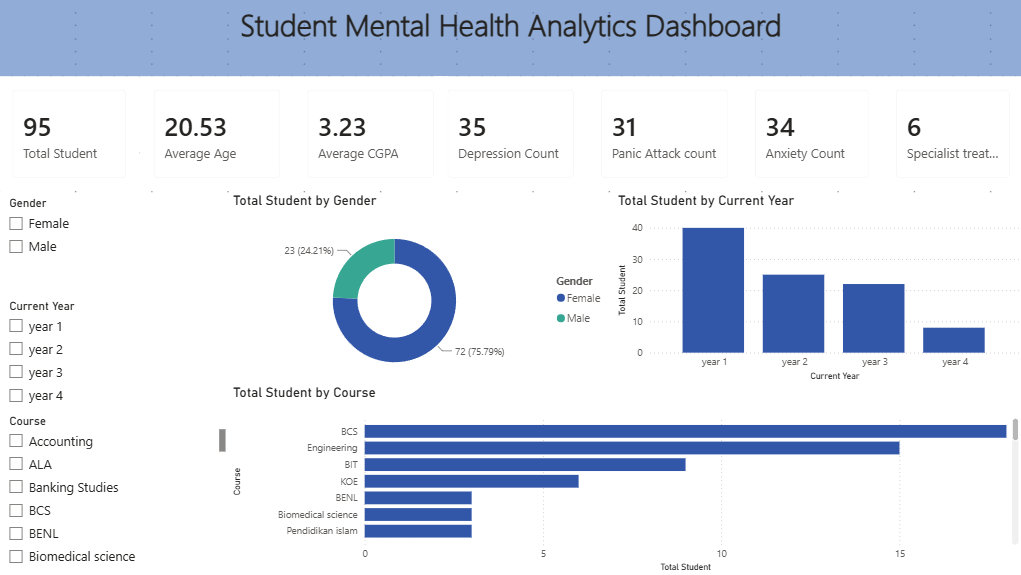

Layout of this report page (visuals, bound fields, positions):
{"tool":"powerbi","page":{"name":"Executive Overview","canvas":[1280,720],"ordinal":0},"visuals":[{"type":"donutChart","fields":{"Category":["Student_health.Gender"],"Y":["Student_health.Total Student"]},"box":[288,240,480,240],"z":0},{"type":"clusteredBarChart","fields":{"Y":["Student_health.Total Student"],"Category":["Student_health.Course"]},"box":[288,480,992,240],"z":1},{"type":"columnChart","fields":{"Category":["Student_health.Current Year"],"Y":["Student_health.Total Student"]},"box":[768,240,512,240],"z":2},{"type":"textbox","box":[0,0,1280,96],"z":3},{"type":"cardVisual","fields":{"Data":["Student_health.Total Student"]},"box":[0,96,176,144],"z":4},{"type":"cardVisual","fields":{"Data":["Student_health.Average Age"]},"box":[176,96,192,144],"z":5},{"type":"cardVisual","fields":{"Data":["Student_health.Panic Attack count"]},"box":[736,96,192,144],"z":6},{"type":"cardVisual","fields":{"Data":["Student_health.Depression Count"]},"box":[544,96,192,144],"z":7},{"type":"cardVisual","fields":{"Data":["Student_health.Average CGPA"]},"box":[368,96,192,144],"z":8},{"type":"cardVisual","fields":{"Data":["Student_health.Anxiety Count"]},"box":[928,96,176,144],"z":9},{"type":"slicer","fields":{"Values":["Student_health.Gender"]},"box":[0,240,288,144],"z":10},{"type":"slicer","fields":{"Values":["Student_health.Course"]},"box":[0,512,288,208],"z":11},{"type":"slicer","fields":{"Values":["Student_health.Current Year"]},"box":[0,368,288,144],"z":12},{"type":"cardVisual","fields":{"Data":["Student_health.Specialist treatment count"]},"box":[1104,96,176,144],"z":13}]}

Visuals, with their boxes in screenshot pixels (x1, y1, x2, y2), scaled from the page's 1280x720 canvas onto the 1021x575 screenshot:
donutChart - Student_health.Gender x Student_health.Total Student: x1=230, y1=192, x2=613, y2=383
clusteredBarChart - Student_health.Total Student x Student_health.Course: x1=230, y1=383, x2=1020, y2=574
columnChart - Student_health.Current Year x Student_health.Total Student: x1=613, y1=192, x2=1020, y2=383
textbox: x1=0, y1=0, x2=1020, y2=77
cardVisual - Student_health.Total Student: x1=0, y1=77, x2=140, y2=192
cardVisual - Student_health.Average Age: x1=140, y1=77, x2=294, y2=192
cardVisual - Student_health.Panic Attack count: x1=587, y1=77, x2=740, y2=192
cardVisual - Student_health.Depression Count: x1=434, y1=77, x2=587, y2=192
cardVisual - Student_health.Average CGPA: x1=294, y1=77, x2=447, y2=192
cardVisual - Student_health.Anxiety Count: x1=740, y1=77, x2=881, y2=192
slicer - Student_health.Gender: x1=0, y1=192, x2=230, y2=307
slicer - Student_health.Course: x1=0, y1=409, x2=230, y2=574
slicer - Student_health.Current Year: x1=0, y1=294, x2=230, y2=409
cardVisual - Student_health.Specialist treatment count: x1=881, y1=77, x2=1020, y2=192
